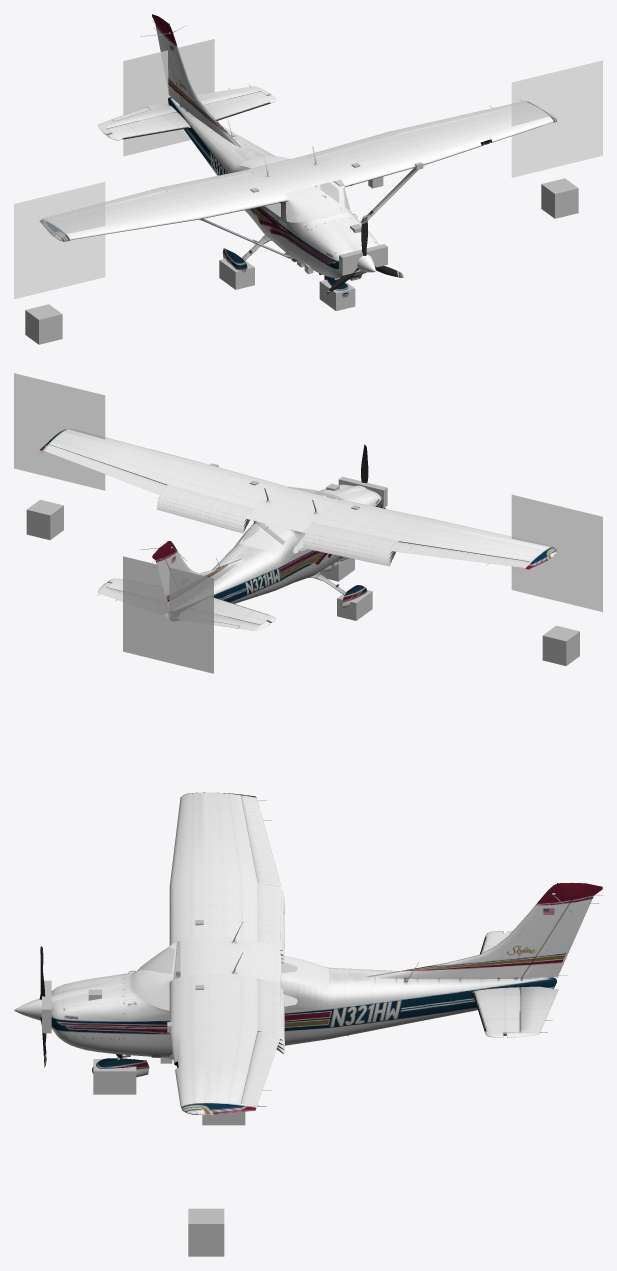
The picture shows the model from 3 angles, top to bottom: view 1: azimuth 30°, elevation 25°; view 2: azimuth 150°, elevation 25°; view 3: azimuth 270°, elevation 25°; orthographic projection. The views are drawn at different scales.
Visible parts, largest first — view 1: Exterior, XLive_2, Pose_flaps_0, XLive_3, XLive_0, Spin_0, XLive_1; view 2: Exterior, Pose_flaps_0, XLive_2, XLive_0, XLive_1, Pose_flaps_1, Pose_flaps_2, XLive_3, Pose_flaps_3, Pose_flaps_4; view 3: Exterior, Pose_flaps_0, XLive_3, XLive_1, XLive_0, XLive_2.
Part boxes in pixels (x1=…): Exterior: x1=14, y1=22, x2=602, y2=344; XLive_2: x1=98, y1=85, x2=270, y2=135; Pose_flaps_0: x1=159, y1=131, x2=397, y2=191; XLive_3: x1=152, y1=14, x2=180, y2=105; XLive_0: x1=391, y1=101, x2=528, y2=134; Spin_0: x1=324, y1=215, x2=403, y2=295; XLive_1: x1=44, y1=188, x2=166, y2=220; Exterior: x1=14, y1=373, x2=602, y2=673; Pose_flaps_0: x1=158, y1=485, x2=398, y2=550; XLive_2: x1=97, y1=583, x2=270, y2=630; XLive_0: x1=41, y1=444, x2=166, y2=494; XLive_1: x1=390, y1=542, x2=528, y2=568; Pose_flaps_1: x1=157, y1=495, x2=393, y2=555; Pose_flaps_2: x1=157, y1=499, x2=393, y2=559; XLive_3: x1=152, y1=543, x2=183, y2=612; Pose_flaps_3: x1=156, y1=503, x2=393, y2=563; Pose_flaps_4: x1=156, y1=507, x2=395, y2=566; Exterior: x1=14, y1=792, x2=574, y2=1256; Pose_flaps_0: x1=257, y1=882, x2=281, y2=1034; XLive_3: x1=521, y1=883, x2=602, y2=978; XLive_1: x1=241, y1=796, x2=281, y2=886; XLive_0: x1=240, y1=1032, x2=281, y2=1106; XLive_2: x1=506, y1=931, x2=558, y2=1037.
Size of the model in its own units: 12.92 by 3.27 by 8.5.
Materials: 13 (8 with a texture image).
